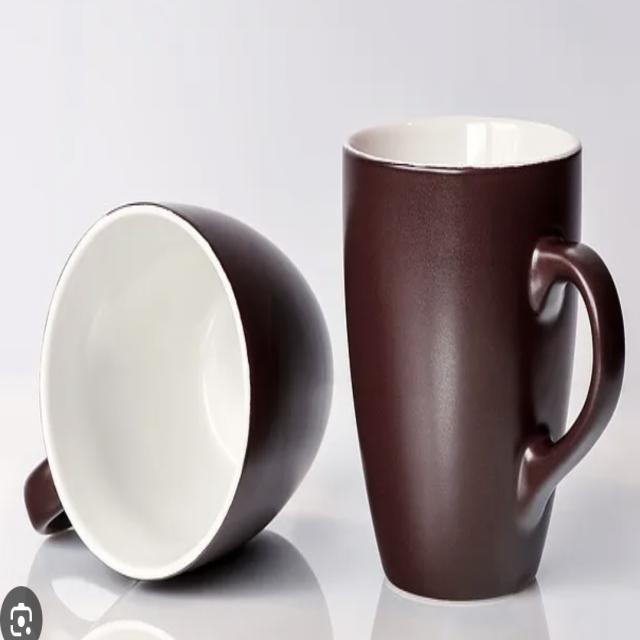recyclable: (334, 99, 632, 612), (20, 196, 339, 582)
